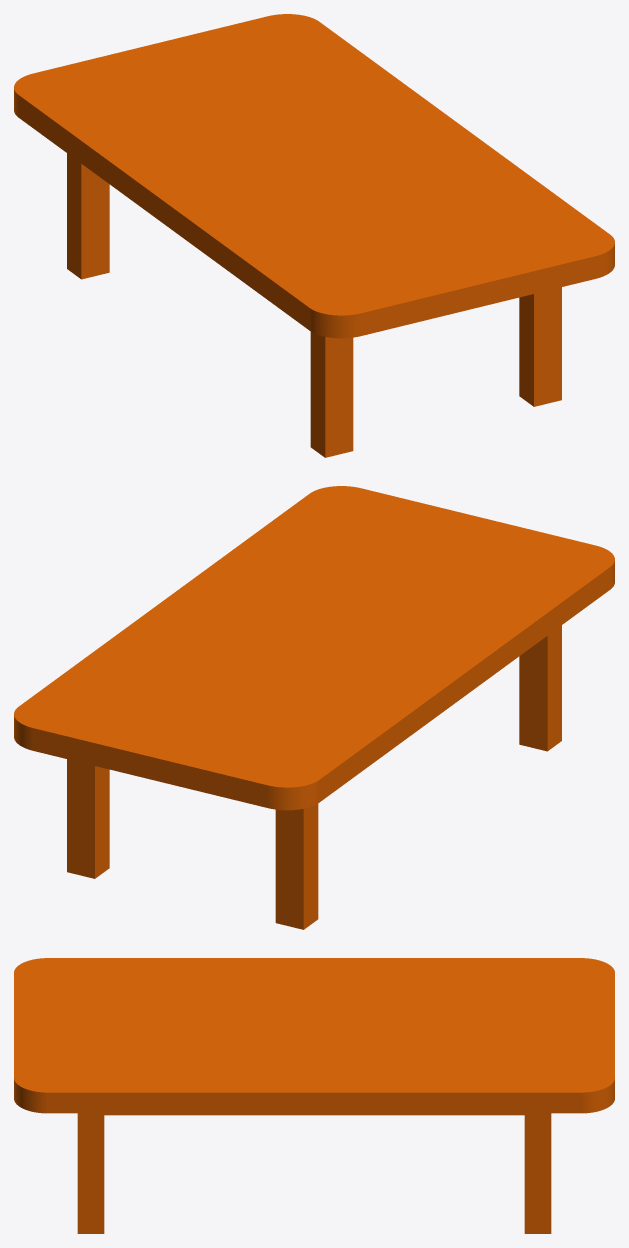
The model's file is tables2.glb.
3 renders of one model, top to bottom at view 1: azimuth 30°, elevation 25°; view 2: azimuth 150°, elevation 25°; view 3: azimuth 270°, elevation 25°, orthographic. The views are drawn at different scales.
Visible parts, largest first — view 1: Cube.001; view 2: Cube.001; view 3: Cube.001.
Part boxes in pixels (left/top/right/bottom): Cube.001: left=14, top=14, right=614, bottom=457; Cube.001: left=14, top=486, right=614, bottom=929; Cube.001: left=14, top=958, right=614, bottom=1233.
Size of what is drawn, in the model's own units: 1.3 by 0.6991 by 2.45.
